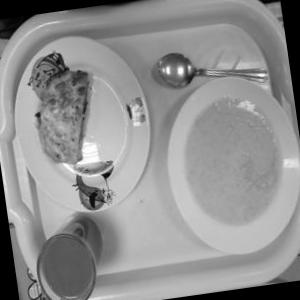cheese_sandwich: (12, 53, 112, 181)
coffee: (22, 196, 120, 300)
porridge: (155, 83, 300, 261)
